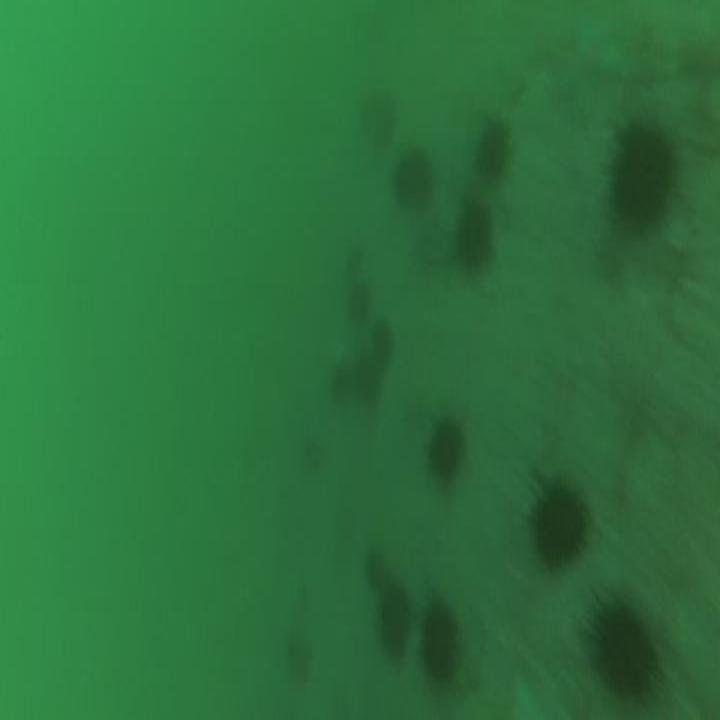echinus: (583, 579, 673, 713), (598, 112, 687, 244), (523, 471, 590, 569), (440, 190, 505, 290), (414, 583, 464, 697), (388, 135, 442, 224), (374, 569, 418, 665), (424, 405, 469, 487), (468, 112, 514, 190), (371, 316, 395, 372), (357, 354, 381, 405), (331, 361, 357, 405), (350, 279, 372, 327)
